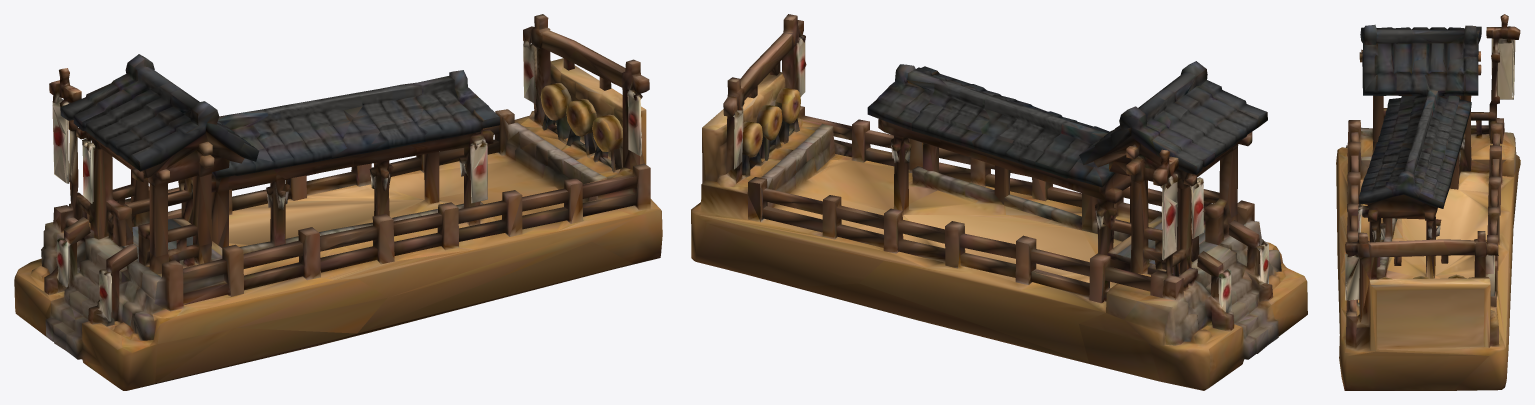
Rendered from range_t3.glb.
The picture shows the model from 3 angles, left to right: view 1: azimuth 30°, elevation 25°; view 2: azimuth 150°, elevation 25°; view 3: azimuth 270°, elevation 25°; orthographic projection. The views are drawn at different scales.
Parts seen in each view (by area): view 1: tripo_node_79230cc1-9fa4-47d9-b162-d3fc1f1984ce; view 2: tripo_node_79230cc1-9fa4-47d9-b162-d3fc1f1984ce; view 3: tripo_node_79230cc1-9fa4-47d9-b162-d3fc1f1984ce.
Part boxes in pixels (x1,y1,x2,y2): tripo_node_79230cc1-9fa4-47d9-b162-d3fc1f1984ce: [14, 14, 662, 390]; tripo_node_79230cc1-9fa4-47d9-b162-d3fc1f1984ce: [691, 14, 1307, 390]; tripo_node_79230cc1-9fa4-47d9-b162-d3fc1f1984ce: [1336, 14, 1520, 390].
Size of the model in its own units: 0.979 by 0.4281 by 0.3611.
Materials: 1 (1 with a texture image).
